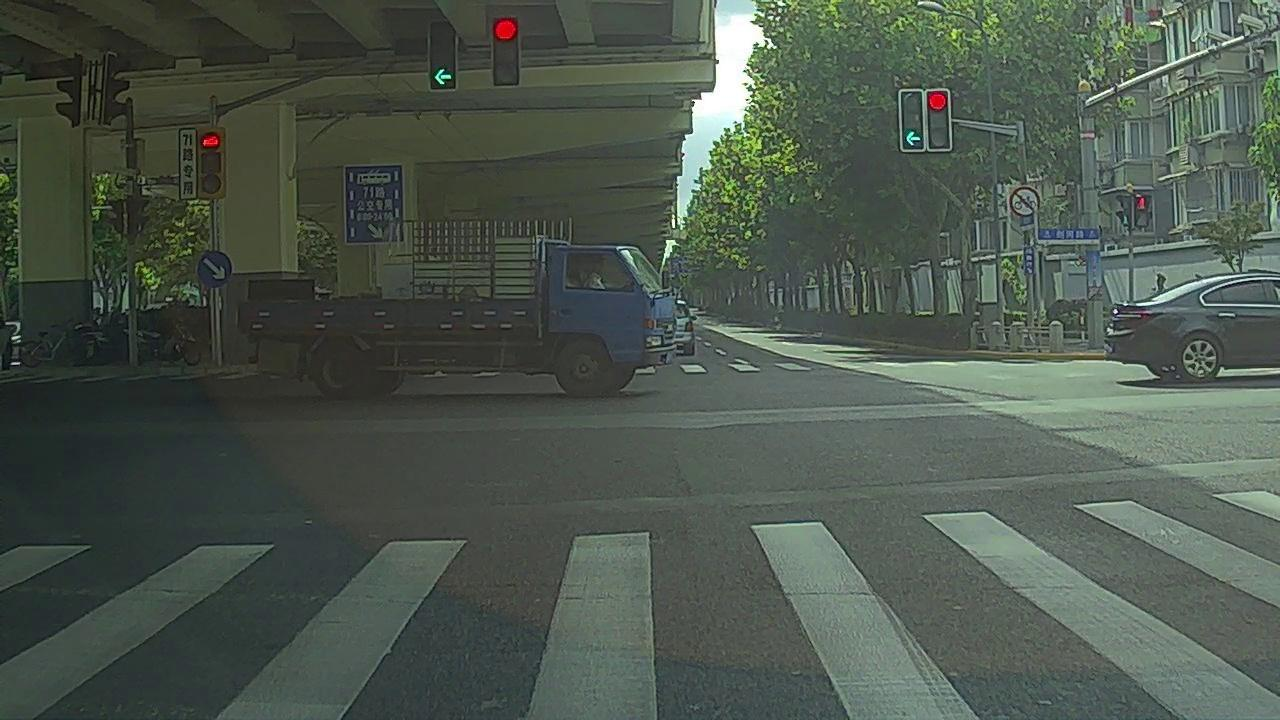traffic_light: (428, 23, 456, 89), (495, 17, 520, 88), (926, 89, 951, 149), (901, 91, 923, 150)
